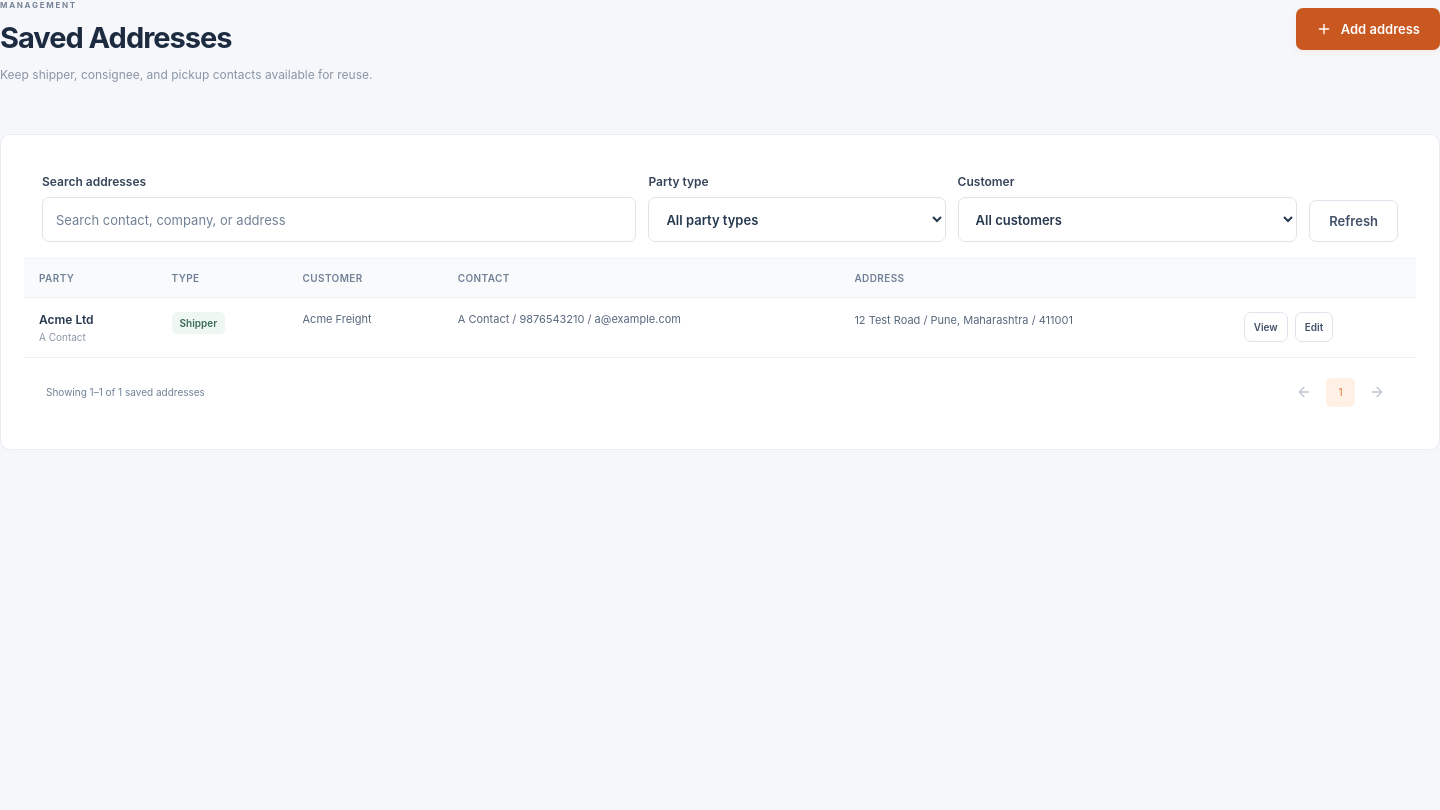
creates a SHIPPER address without requiring unconfirmed address fields
Expected: the text "Acme Ltd" is shown, [39, 312, 94, 328]
Click the button "Add address" at (1368, 29), box [1296, 8, 1439, 50]
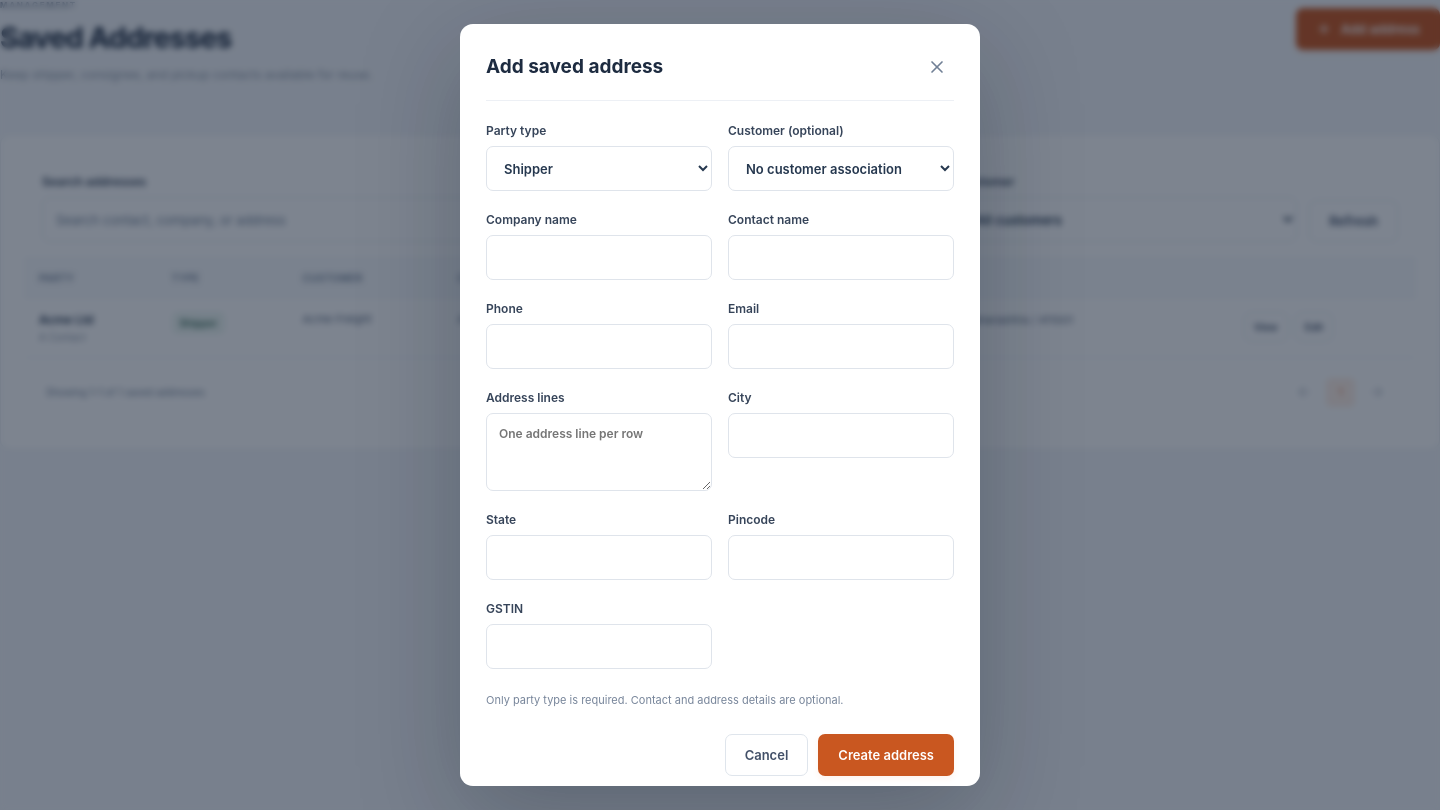
Select "Shipper" in the dropdown labelled "Party type" at (599, 168), box [486, 146, 712, 191]
Click the button "Create address" at (886, 755), box [818, 734, 954, 776]
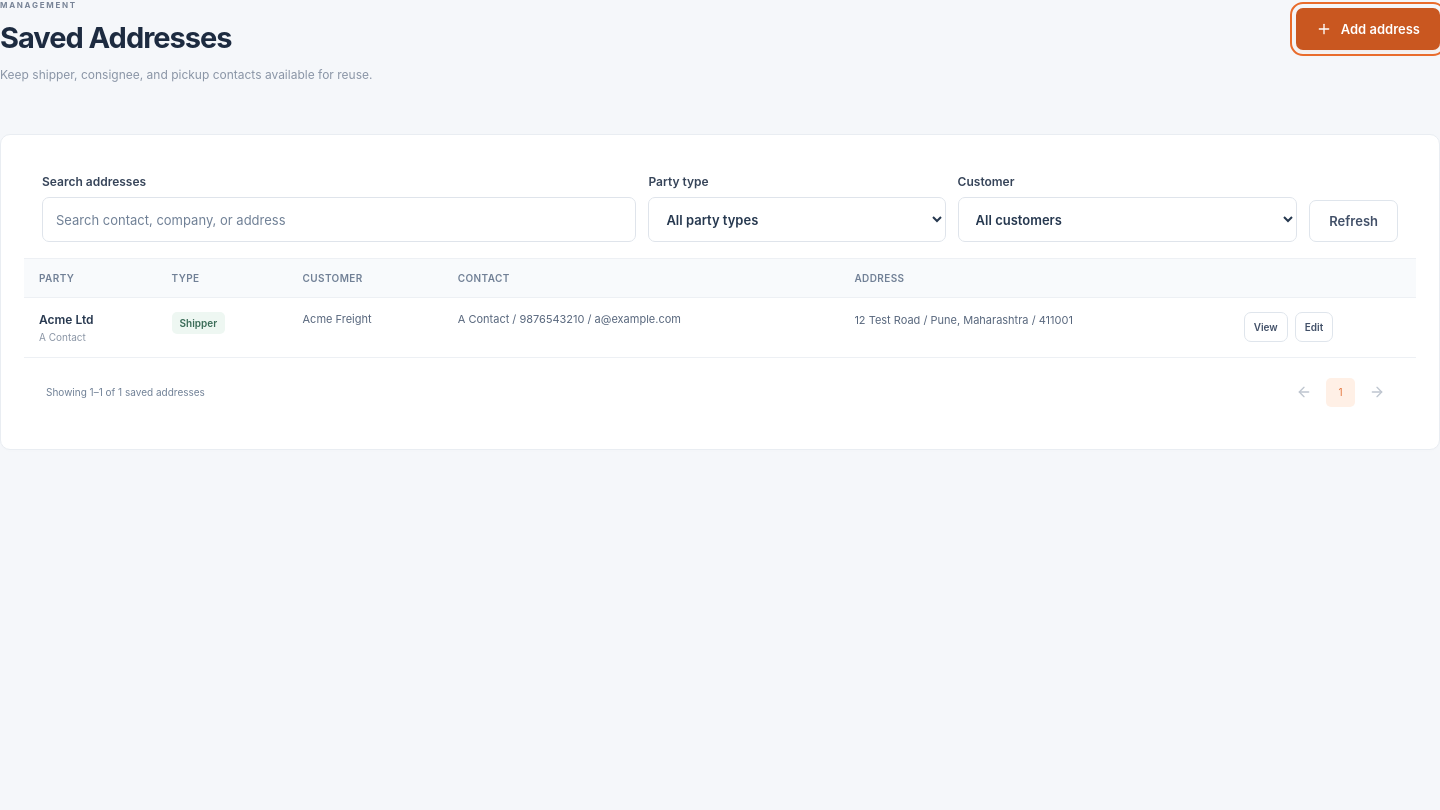
Now the heading "Add saved address" is gone
